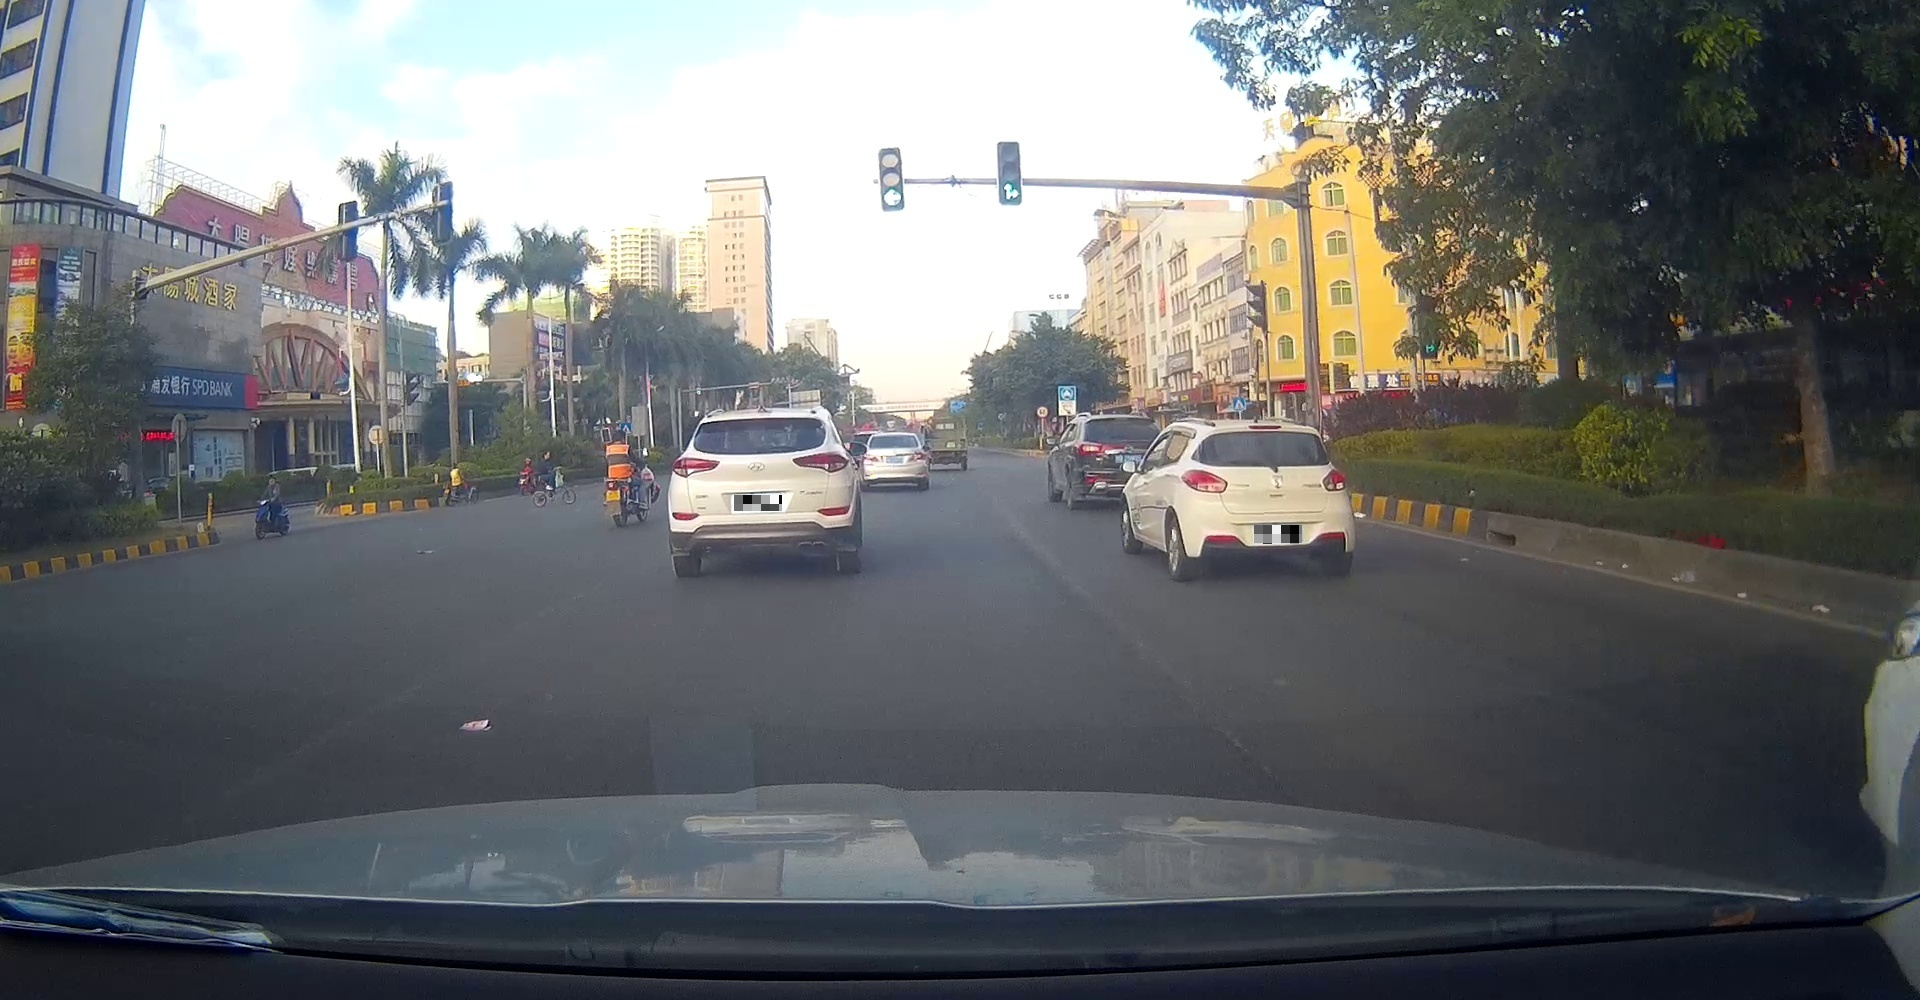L_light: (1180, 468, 1229, 495), (670, 456, 720, 478), (863, 453, 880, 462)
R_light: (791, 451, 850, 473), (1322, 467, 1347, 492), (910, 452, 927, 461)
T_light: (1253, 431, 1281, 437), (745, 419, 770, 424), (888, 437, 897, 438)
day-no: (668, 409, 852, 577), (1177, 419, 1355, 581), (862, 431, 928, 490)
plate_1: (734, 495, 782, 511)
plate_2: (1255, 525, 1302, 544)
